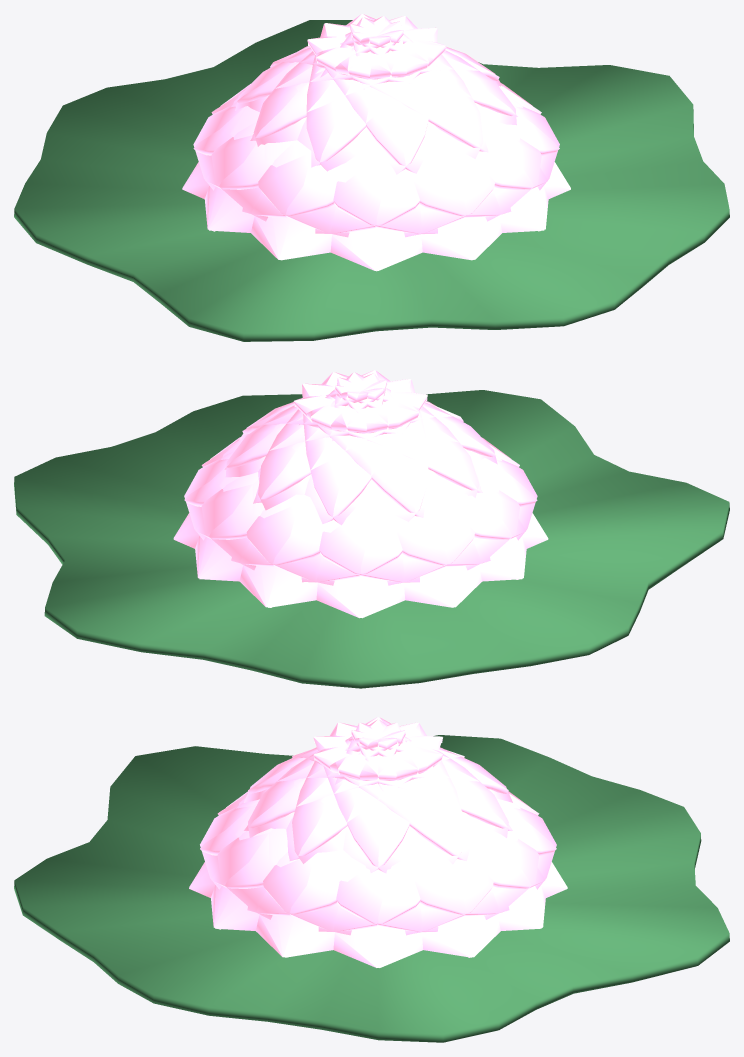
The model's file is hoa_dang.glb.
3 renders of one model, top to bottom at view 1: azimuth 30°, elevation 25°; view 2: azimuth 150°, elevation 25°; view 3: azimuth 270°, elevation 25°, orthographic. The views are drawn at different scales.
Visible parts, largest first — view 1: LotusLeafBase, BaseSolidPetal; view 2: LotusLeafBase, BaseSolidPetal; view 3: LotusLeafBase, BaseSolidPetal.
Part boxes in pixels (<box>): LotusLeafBase: <box>14,20,729,341</box>; BaseSolidPetal: <box>182,14,570,271</box>; LotusLeafBase: <box>14,390,729,688</box>; BaseSolidPetal: <box>173,370,548,618</box>; LotusLeafBase: <box>14,735,729,1042</box>; BaseSolidPetal: <box>189,717,567,967</box>.
Size of the model in its own units: 0.9234 by 0.251 by 0.9248.
